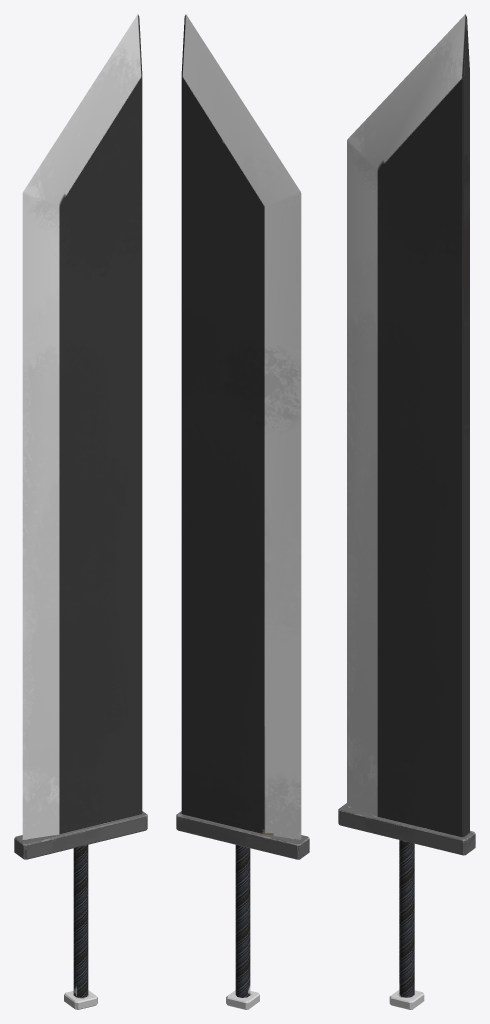
File: BusterSword.fbx
3 renders of one model, left to right at view 1: azimuth 30°, elevation 25°; view 2: azimuth 150°, elevation 25°; view 3: azimuth 330°, elevation 25°, orthographic. The views are drawn at different scales.
Visible parts, largest first — view 1: BusterSwordMesh; view 2: BusterSwordMesh; view 3: BusterSwordMesh.
Boxes of the visible parts, x1=… form: BusterSwordMesh: x1=14, y1=14, x2=147, y2=1009; BusterSwordMesh: x1=176, y1=14, x2=309, y2=1009; BusterSwordMesh: x1=338, y1=14, x2=475, y2=1009.
Bounding box in the file's own units: 30.88 × 231 × 5.74.
Materials: 1 (1 with a texture image).
